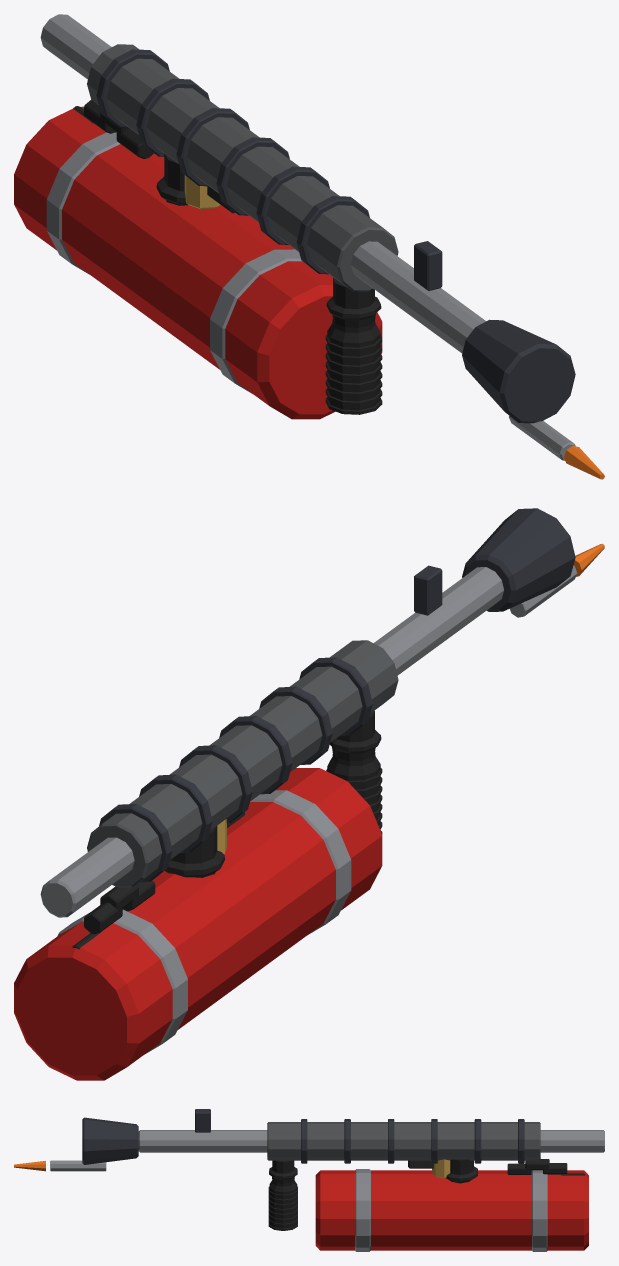
The model's file is flamethrower.glb.
The picture shows the model from 3 angles, top to bottom: view 1: azimuth 30°, elevation 25°; view 2: azimuth 150°, elevation 25°; view 3: azimuth 270°, elevation 25°; orthographic projection. The views are drawn at different scales.
Visible parts, largest first — view 1: flamethrower; view 2: flamethrower; view 3: flamethrower.
Boxes of the visible parts, bbox=[...] form: flamethrower: bbox=[14, 14, 604, 479]; flamethrower: bbox=[14, 508, 604, 1080]; flamethrower: bbox=[14, 1109, 604, 1251].
Size of the model in its own units: 0.0803 by 0.1508 by 0.588.
